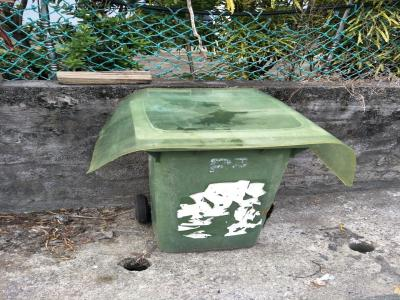bucket: (144, 146, 307, 250)
plastic_bag: (88, 87, 349, 161)
